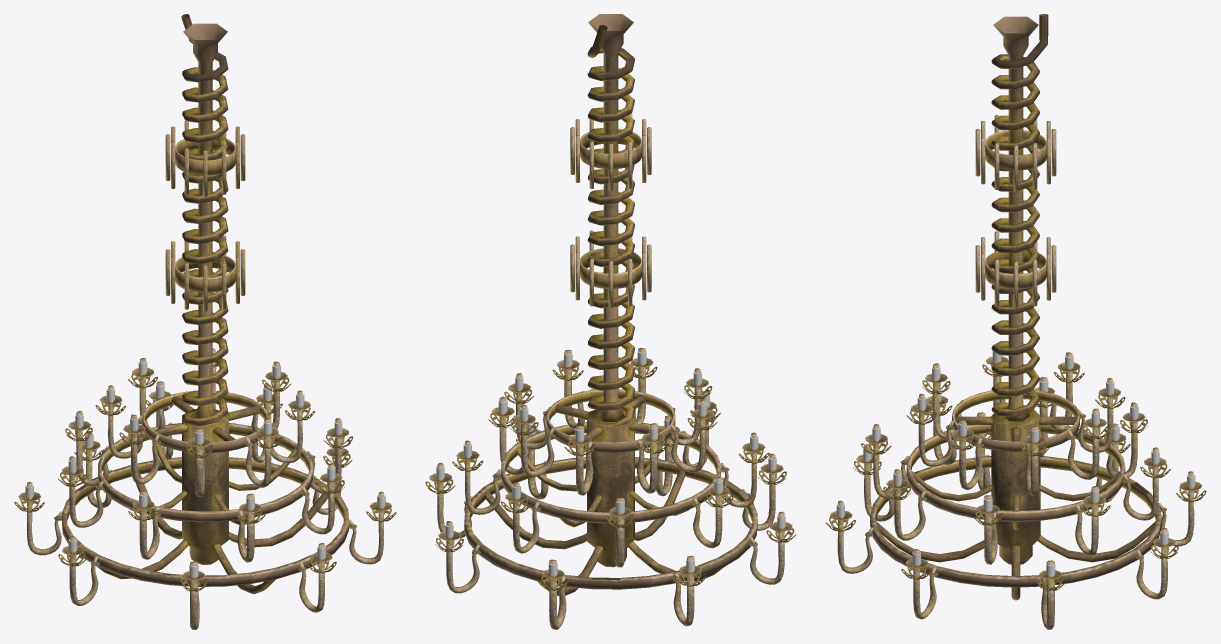
The model's file is Chandelier Final.fbx.
3 views of the same model, side by side, from view 1: azimuth 30°, elevation 25°; view 2: azimuth 150°, elevation 25°; view 3: azimuth 270°, elevation 25° (orthographic). The views are drawn at different scales.
Visible parts, largest first — view 1: Avize vücut.001, Cylinder.003, Lambalar; view 2: Avize vücut.001, Cylinder.003, Lambalar; view 3: Avize vücut.001, Cylinder.003, Lambalar.
Part boxes in pixels (box(x1,y1,x2,y2)): Avize vücut.001: box(14, 23, 396, 629); Cylinder.003: box(96, 14, 327, 594); Lambalar: box(25, 353, 385, 577); Avize vücut.001: box(425, 14, 796, 629); Cylinder.003: box(486, 25, 723, 596); Lambalar: box(436, 352, 785, 575); Avize vücut.001: box(825, 16, 1206, 629); Cylinder.003: box(876, 14, 1155, 600); Lambalar: box(836, 351, 1195, 576).
Size of the model in its own units: 3848 by 6086 by 3848.
